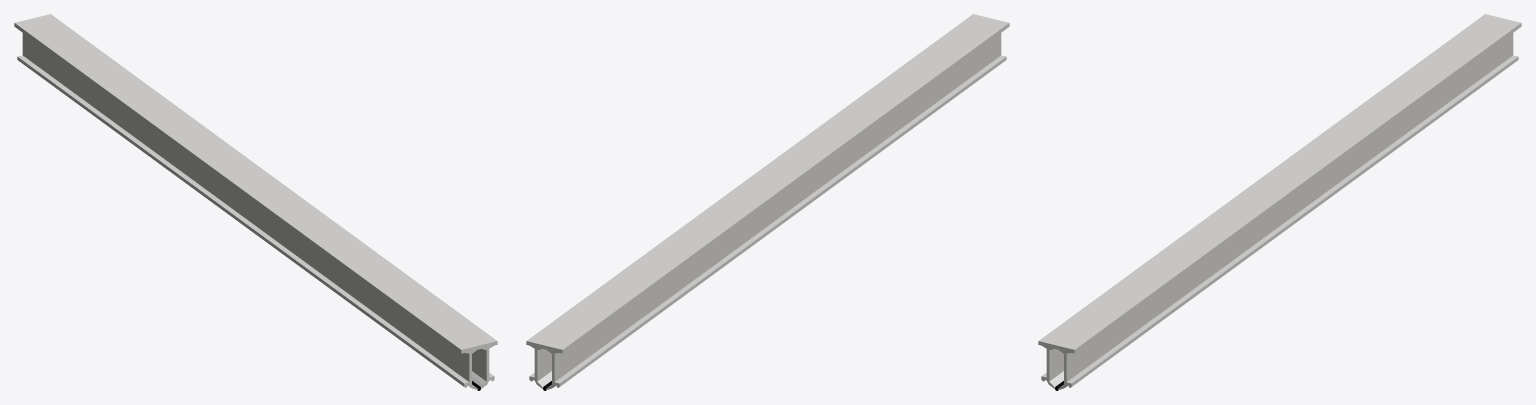
Rendered from cprl_s4.obj.
3 renders of one model, left to right at view 1: azimuth 30°, elevation 25°; view 2: azimuth 150°, elevation 25°; view 3: azimuth 330°, elevation 25°, orthographic.
Visible parts, largest first — view 1: 1.003; view 2: 1.003; view 3: 1.003.
Boxes of the visible parts, x1,y1,x2,y2 form: 1.003: [14, 14, 497, 390]; 1.003: [526, 14, 1009, 390]; 1.003: [1038, 14, 1521, 390].
Size of the model in its own units: 0.1875 by 0.225 by 4.
Materials: 3 (3 with a texture image).
